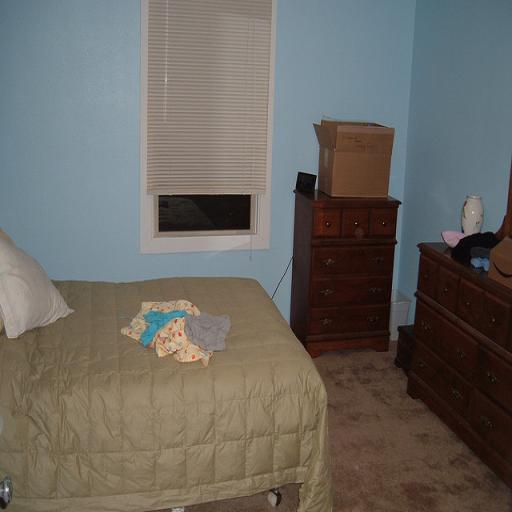bed: (2, 198, 346, 502)
